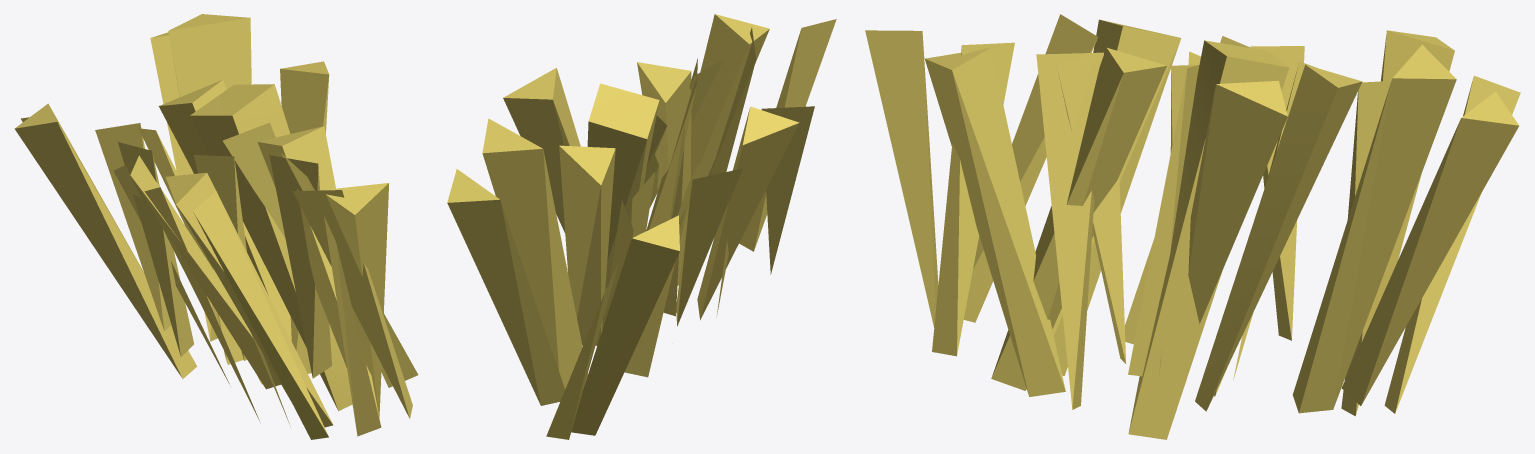
File: potatohair.dae
3 views of the same model, side by side, from view 1: azimuth 30°, elevation 25°; view 2: azimuth 150°, elevation 25°; view 3: azimuth 270°, elevation 25° (orthographic). The views are drawn at different scales.
Visible parts, largest first — view 1: Cube; view 2: Cube; view 3: Cube.
Boxes of the visible parts, x1=… form: Cube: x1=14, y1=14, x2=418, y2=439; Cube: x1=447, y1=14, x2=836, y2=439; Cube: x1=865, y1=14, x2=1520, y2=439.
Size of the model in its own units: 0.5857 by 1.13 by 0.7255.
